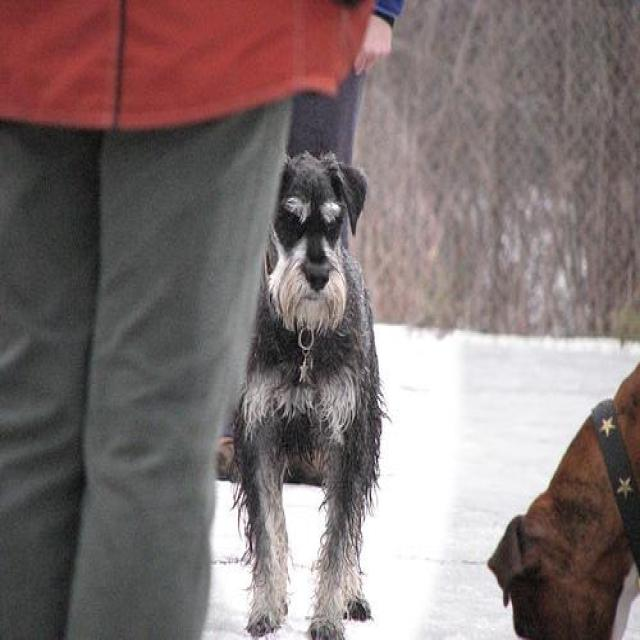standard_schnauzer: (228, 147, 385, 638)
